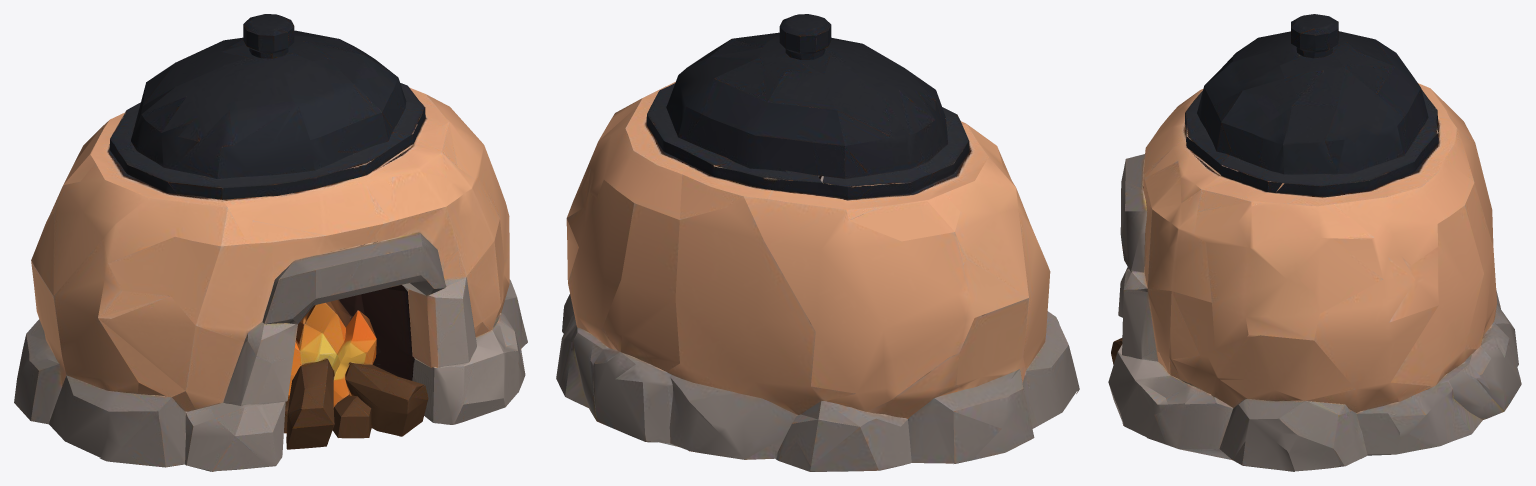
The model's file is stove.glb.
3 renders of one model, left to right at view 1: azimuth 30°, elevation 25°; view 2: azimuth 150°, elevation 25°; view 3: azimuth 270°, elevation 25°, orthographic. The views are drawn at different scales.
Visible parts, largest first — view 1: Mesh_0; view 2: Mesh_0; view 3: Mesh_0.
Part boxes in pixels (x1,y1,x2,y2): Mesh_0: (14, 14, 527, 471); Mesh_0: (556, 14, 1079, 471); Mesh_0: (1108, 14, 1521, 471).
Bounding box in the file's own units: 2 × 1.43 × 1.58.
1 material, 1 textured.
